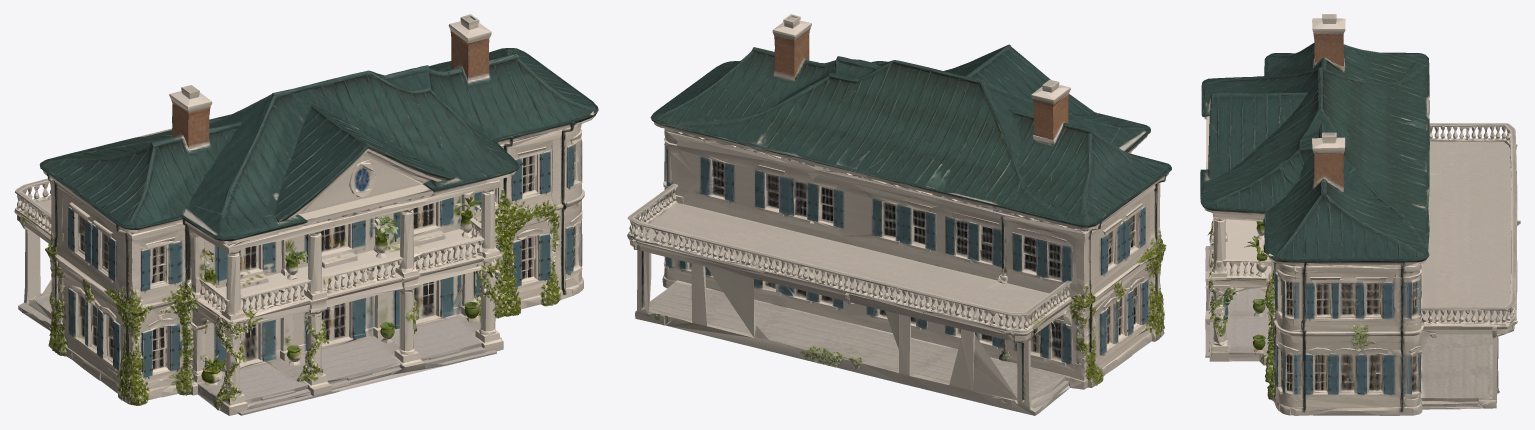
The model's file is clubhouse.glb.
3 renders of one model, left to right at view 1: azimuth 30°, elevation 25°; view 2: azimuth 150°, elevation 25°; view 3: azimuth 270°, elevation 25°, orthographic. The views are drawn at different scales.
Parts seen in each view (by area): view 1: clubhouse_LOD0; view 2: clubhouse_LOD0; view 3: clubhouse_LOD0.
Part boxes in pixels (x1,y1,x2,y2): clubhouse_LOD0: [14, 14, 598, 415]; clubhouse_LOD0: [627, 14, 1171, 415]; clubhouse_LOD0: [1200, 14, 1520, 415].
Bounding box in the file's own units: 1.89 × 1.03 × 1.23.
1 material, 1 textured.
